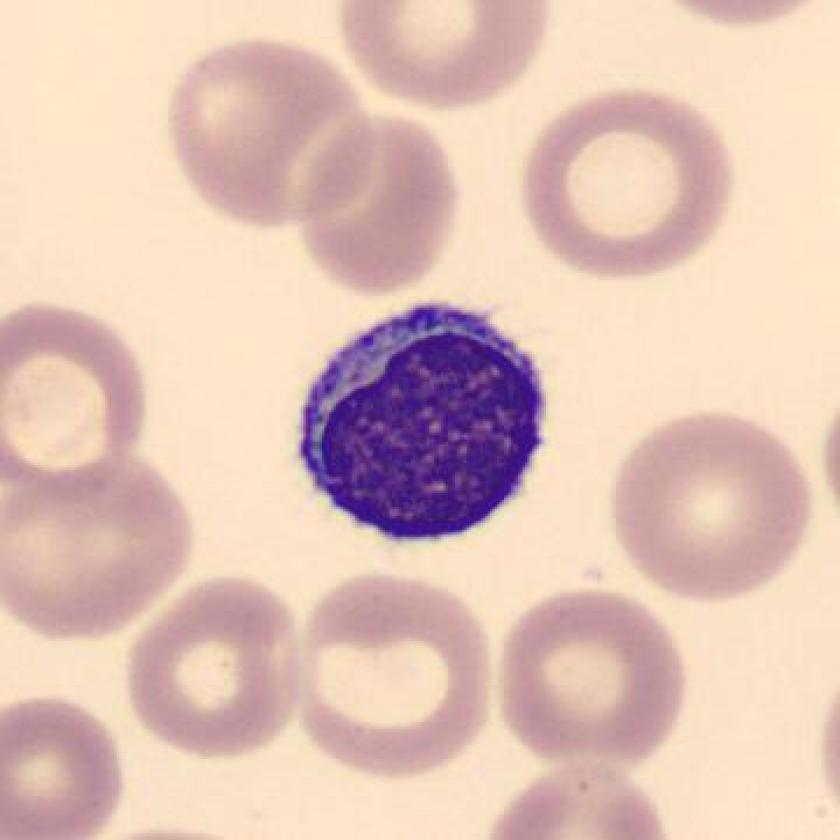lymphocyte: (272, 291, 573, 557)
